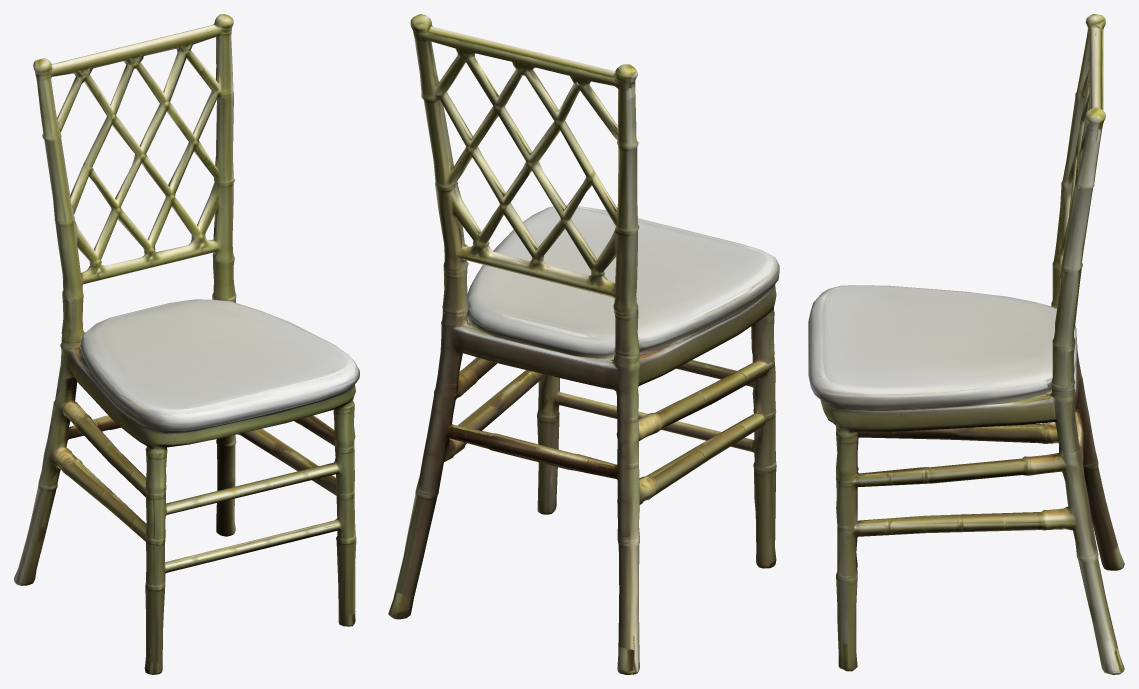
The model's file is CHIAVARI_MESH_BACK_Ch_0403041909_texture.glb.
The picture shows the model from 3 angles, left to right: view 1: azimuth 30°, elevation 25°; view 2: azimuth 150°, elevation 25°; view 3: azimuth 270°, elevation 25°; orthographic projection. The views are drawn at different scales.
Parts seen in each view (by area): view 1: Mesh_0; view 2: Mesh_0; view 3: Mesh_0.
Part boxes in pixels (x1,y1,x2,y2): Mesh_0: [14, 14, 359, 674]; Mesh_0: [388, 14, 779, 674]; Mesh_0: [808, 14, 1124, 674].
Size of the model in its own units: 0.3522 by 0.8128 by 0.4172.
1 material, 1 textured.
